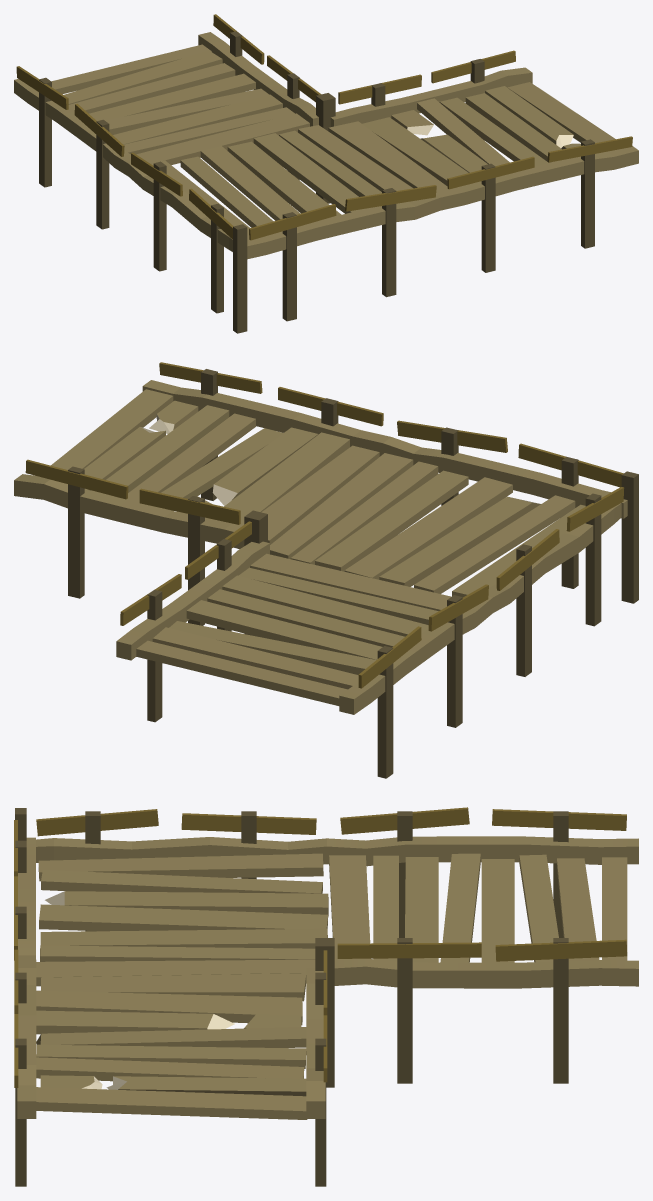
Rendered from PuenteModular_Esquina_FBX (1).fbx.
3 views of the same model, one above another, from view 1: azimuth 30°, elevation 25°; view 2: azimuth 150°, elevation 25°; view 3: azimuth 270°, elevation 25° (orthographic). The views are drawn at different scales.
Parts seen in each view (by area): view 1: PuenteModular_Esquina; view 2: PuenteModular_Esquina; view 3: PuenteModular_Esquina.
Part boxes in pixels (x1,y1,x2,y2): PuenteModular_Esquina: [14, 14, 638, 333]; PuenteModular_Esquina: [14, 362, 638, 778]; PuenteModular_Esquina: [14, 807, 638, 1186].
Size of the model in its own units: 16.2 by 4.12 by 16.02.
